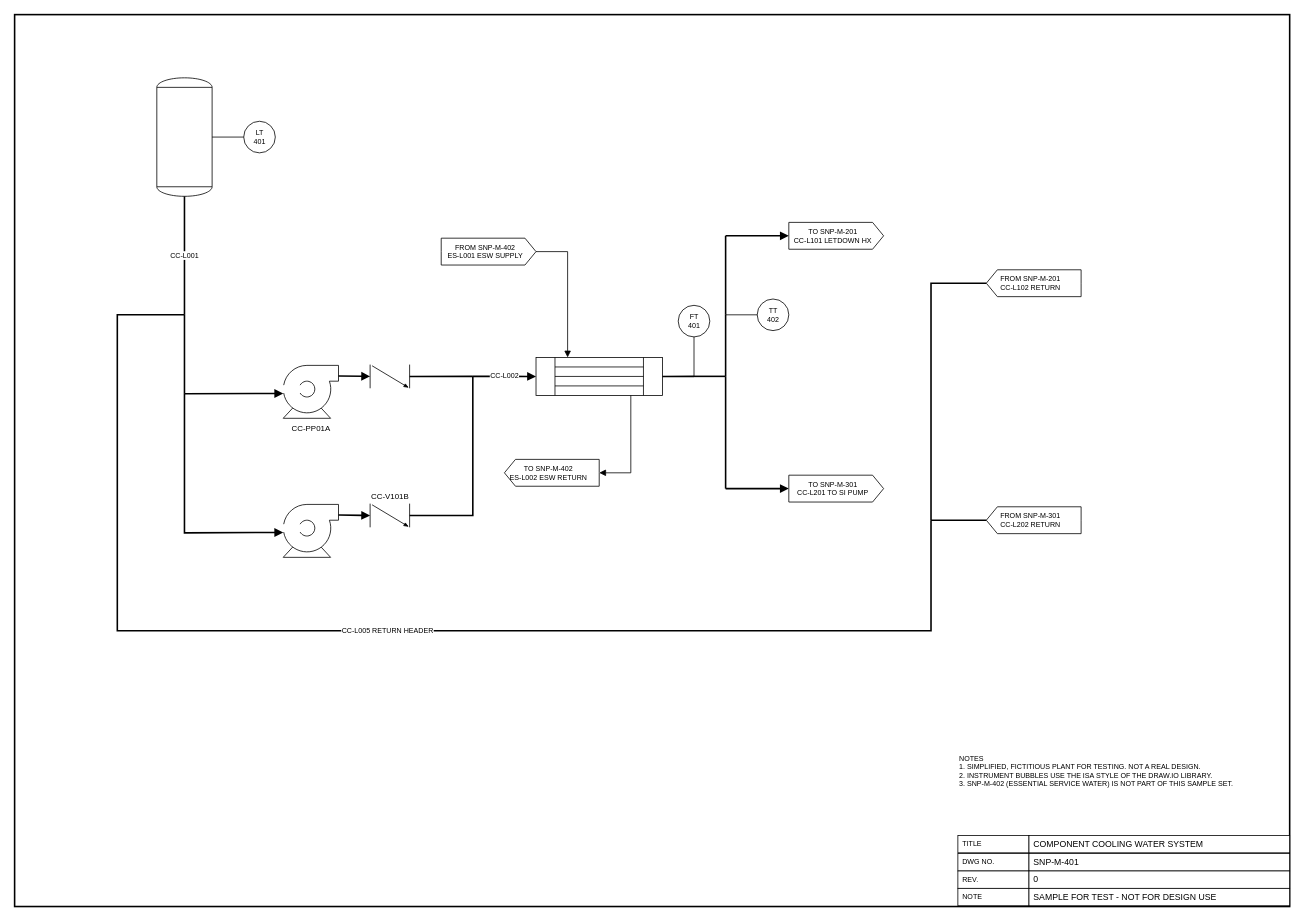
This 1304x920 diagram has some shape labels left out. Here are the shapes that lost their labels. From the top down, the centre of each, then its label:
(184,136): CC-TK01 SURGE TANK
(389,376): CC-V101A
(598,376): CC-HX01 CCW HEAT EXCHANGER
(310,530): CC-PP01B
